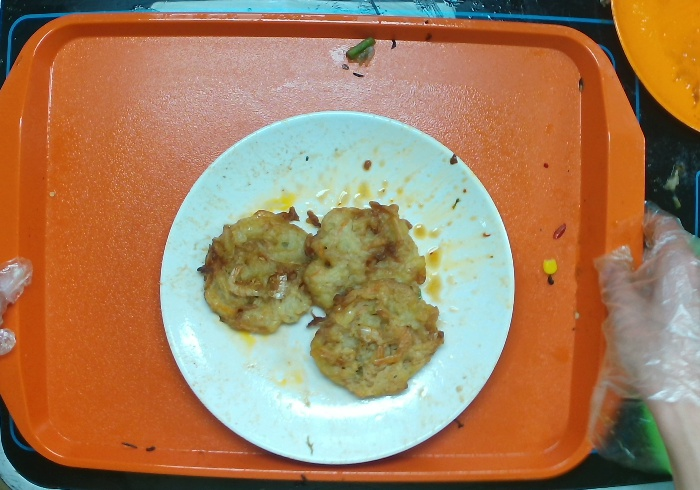HZYJPL-Bai_Se_Yuan_Pan: (154, 106, 521, 472)
